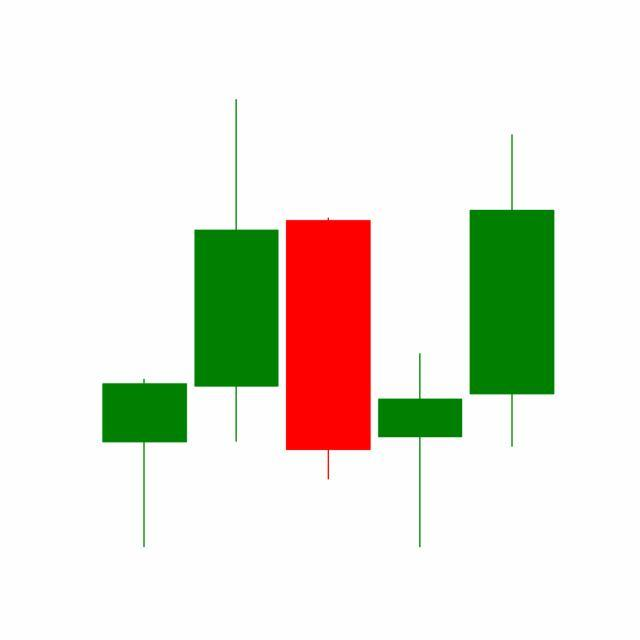Three Inside Up-Down: (280, 130, 555, 549)
